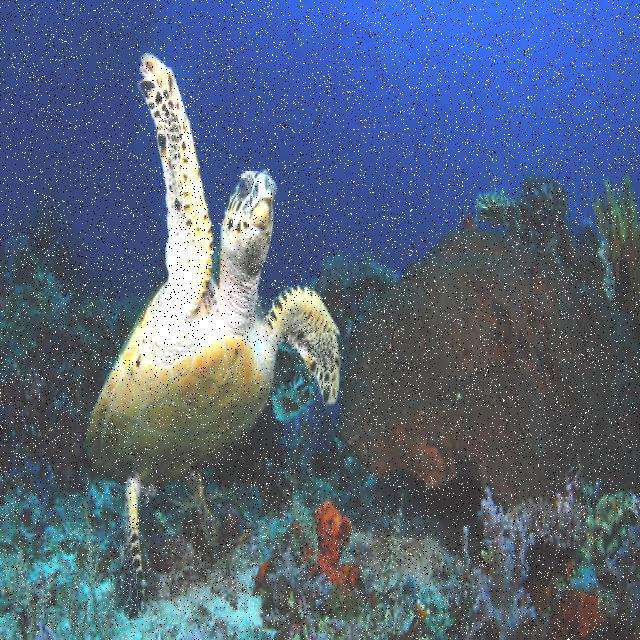tortoise: (84, 43, 358, 581)
